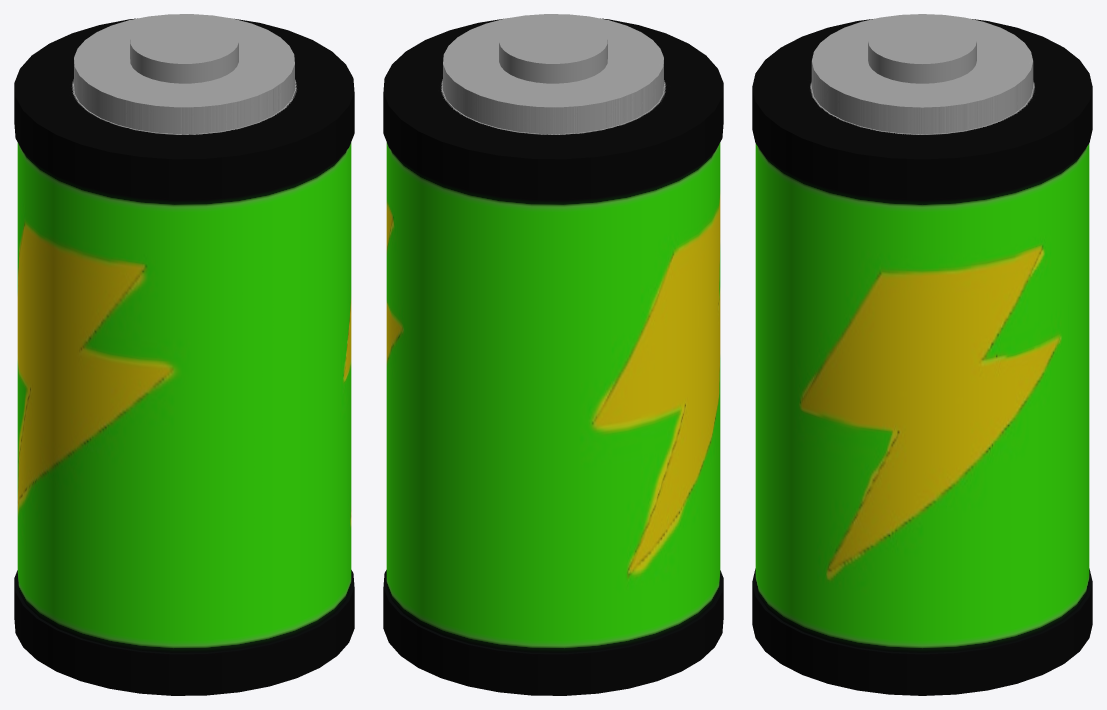
File: bateria.fbx
3 renders of one model, left to right at view 1: azimuth 30°, elevation 25°; view 2: azimuth 150°, elevation 25°; view 3: azimuth 270°, elevation 25°, orthographic.
Visible parts, largest first — view 1: batery; view 2: batery; view 3: batery.
Boxes of the visible parts, x1,y1,x2,y2 form: batery: (14,14,354,695); batery: (383,14,723,695); batery: (752,14,1092,695).
Bounding box in the file's own units: 124 × 235 × 124.
